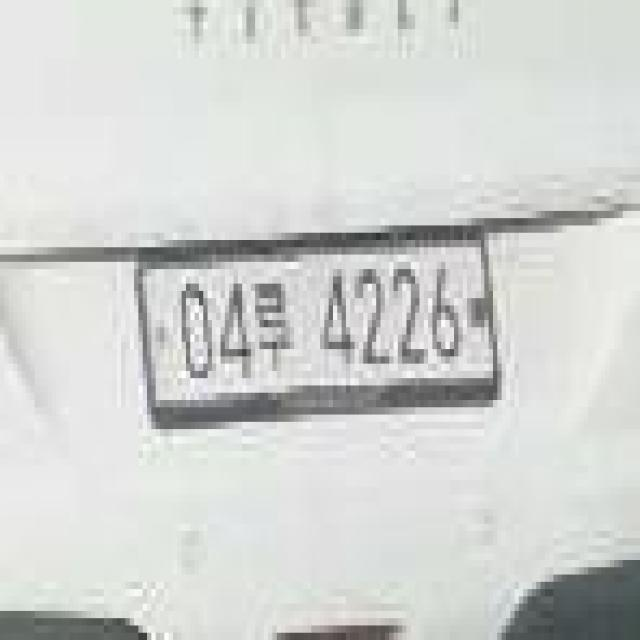illegal_plate: (138, 225, 507, 428)
